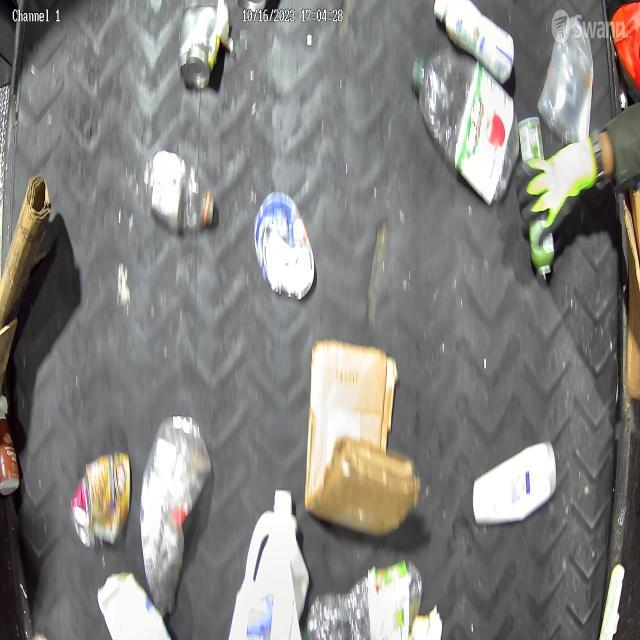can: (174, 7, 224, 86)
milk_jug: (232, 477, 310, 640)
plastic_bottle: (410, 54, 518, 185), (141, 418, 212, 608), (312, 557, 424, 640), (136, 144, 212, 243)
